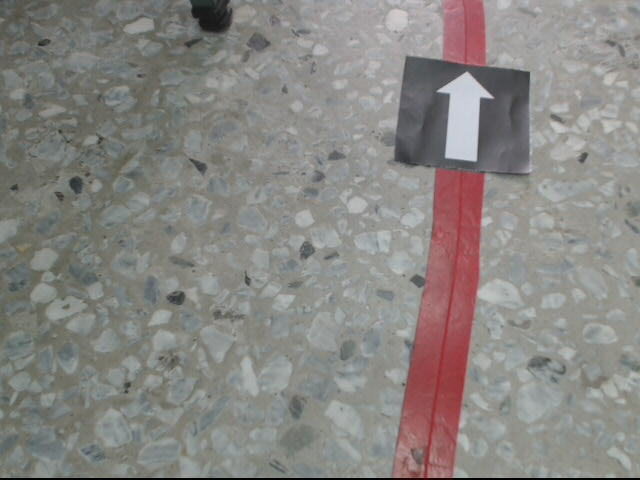straight: (392, 52, 533, 175)
